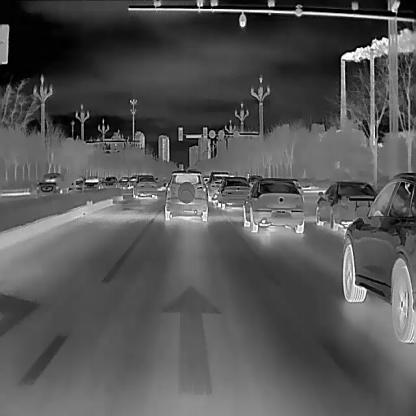car: (340, 170, 416, 343), (242, 178, 305, 233), (316, 178, 378, 232), (162, 168, 209, 221), (215, 173, 252, 209), (35, 170, 68, 196), (207, 170, 230, 203), (132, 172, 159, 199), (82, 175, 102, 190), (100, 174, 118, 190), (116, 174, 130, 187)
